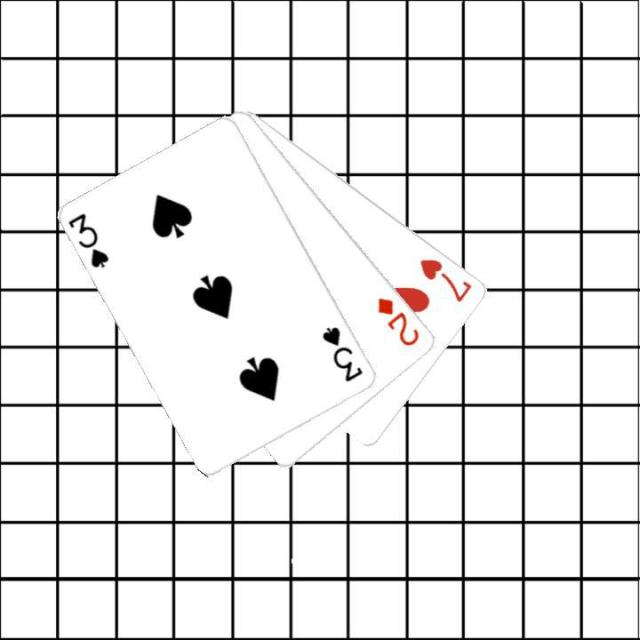2D: (374, 294, 422, 348)
3S: (318, 323, 366, 384), (65, 209, 112, 270)
7H: (416, 254, 475, 304)
